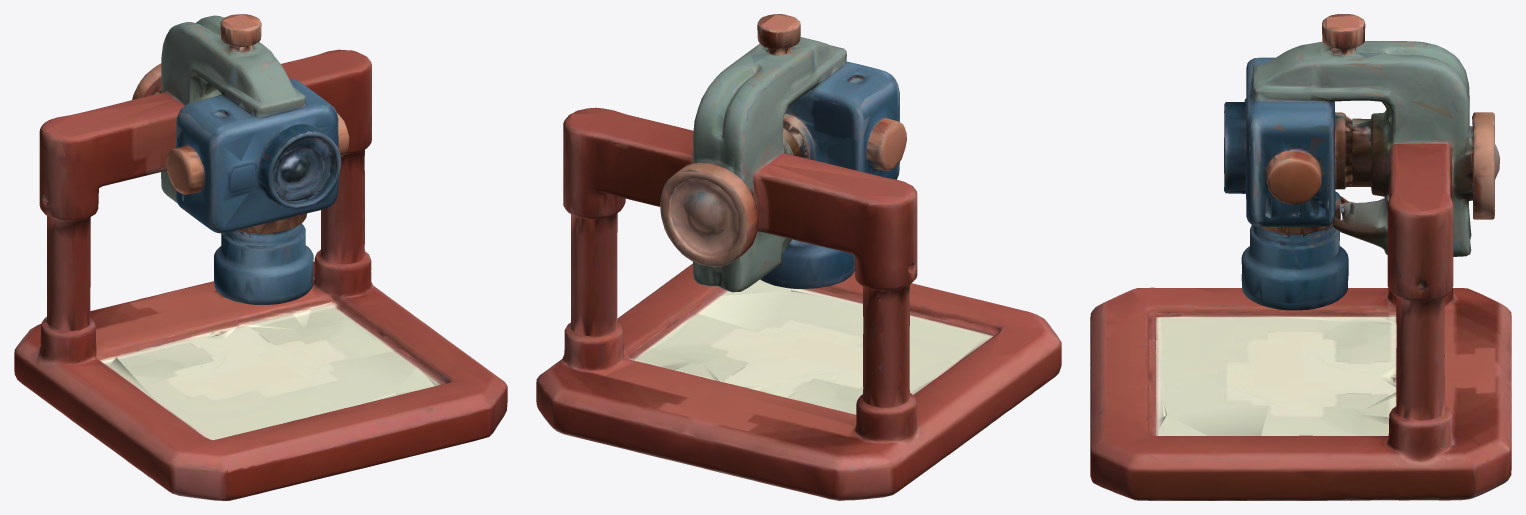
File: sc-recording-cradle.glb
3 views of the same model, side by side, from view 1: azimuth 30°, elevation 25°; view 2: azimuth 150°, elevation 25°; view 3: azimuth 270°, elevation 25° (orthographic). The views are drawn at different scales.
Parts seen in each view (by area): view 1: geometry_0; view 2: geometry_0; view 3: geometry_0.
Part boxes in pixels (left/top/right/bottom): geometry_0: left=14, top=14, right=507, bottom=500; geometry_0: left=536, top=14, right=1061, bottom=500; geometry_0: left=1090, top=14, right=1511, bottom=500.
Size of the model in its own units: 0.9725 by 1 by 0.9745.
Materials: 1 (1 with a texture image).
